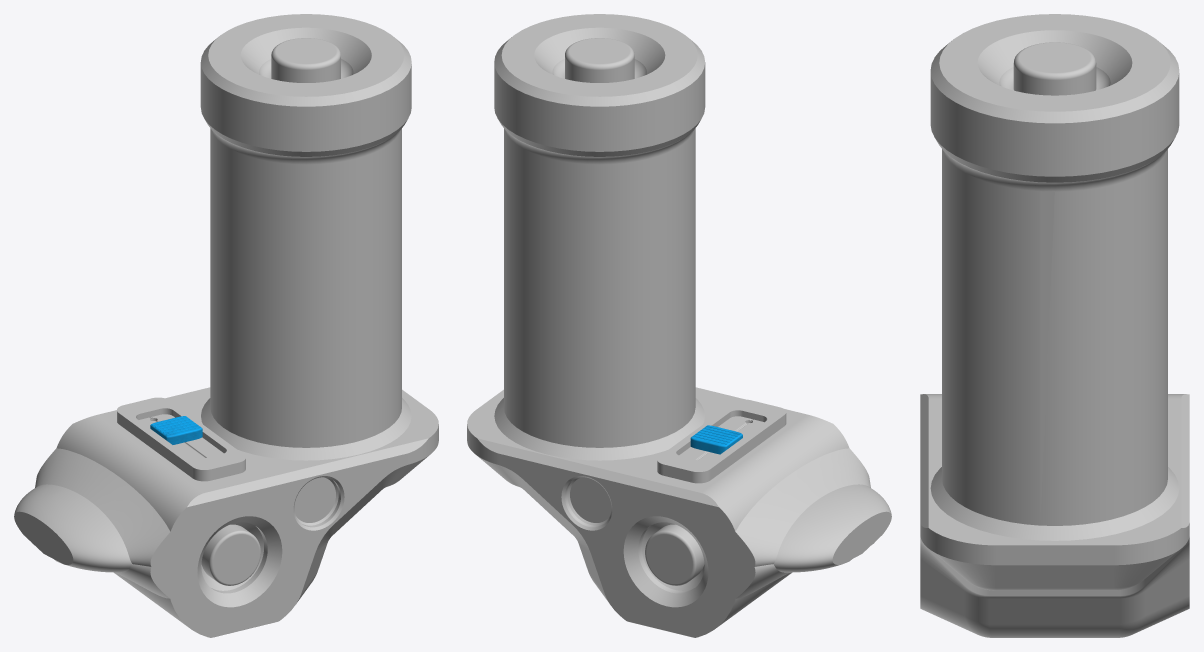
Rendered from Medix_Injection.fbx.
3 views of the same model, side by side, from view 1: azimuth 30°, elevation 25°; view 2: azimuth 150°, elevation 25°; view 3: azimuth 270°, elevation 25° (orthographic). The views are drawn at different scales.
Parts seen in each view (by area): view 1: Injector:Rail1; view 2: Injector:Rail1; view 3: Injector:Rail1.
Boxes of the visible parts, left/top/right/bottom form: Injector:Rail1: left=14, top=14, right=438, bottom=637; Injector:Rail1: left=467, top=14, right=891, bottom=637; Injector:Rail1: left=920, top=14, right=1189, bottom=637.
Size of the model in its own units: 2.13 by 2.89 by 1.16.
